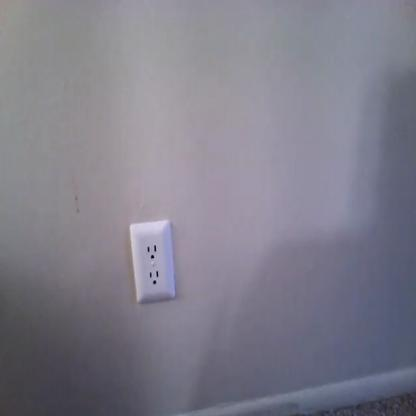OUTLET: (129, 220, 177, 303)
